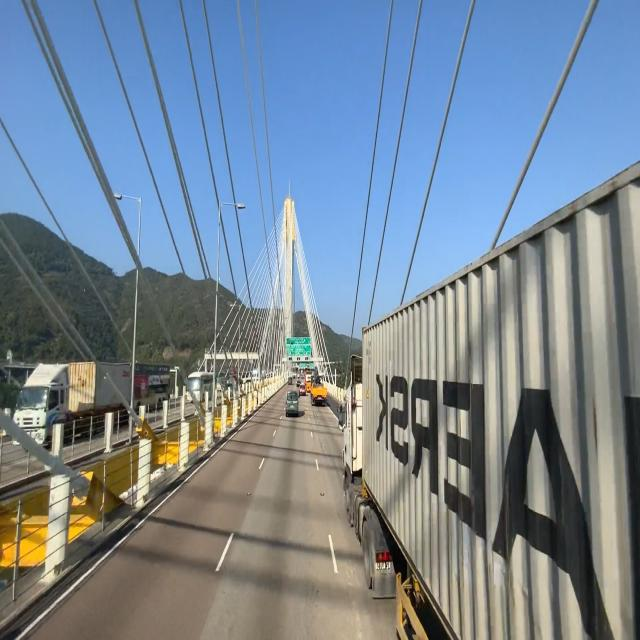Vehicle: (282, 389, 304, 418)
